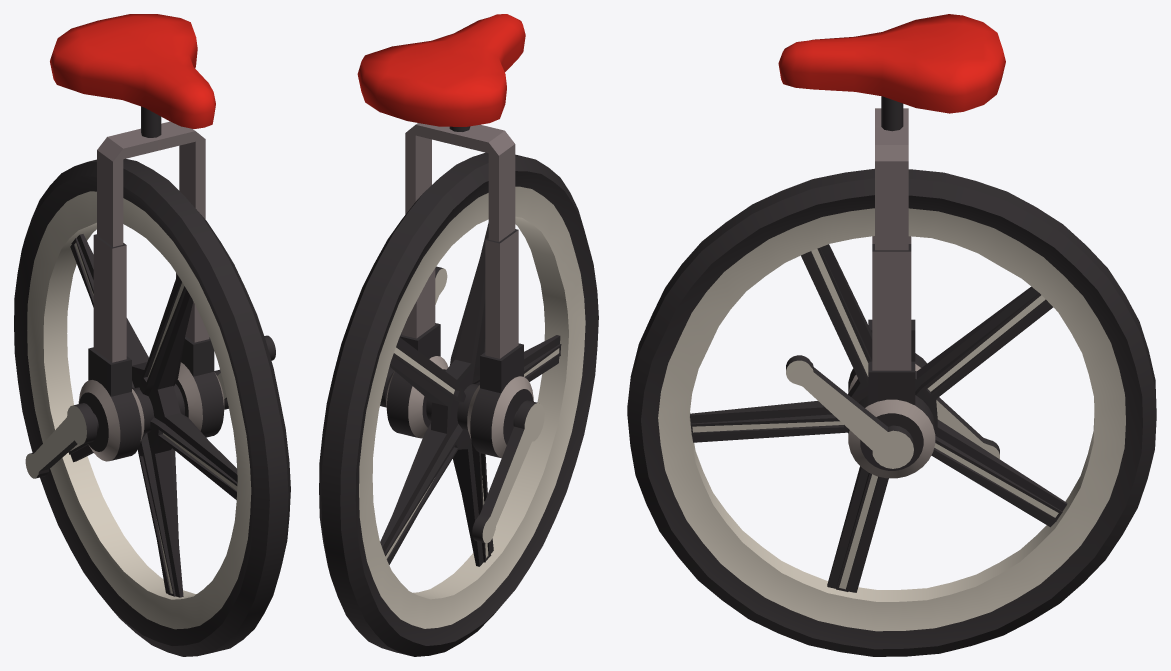
File: Clown Cycle.fbx
The picture shows the model from 3 angles, left to right: view 1: azimuth 30°, elevation 25°; view 2: azimuth 150°, elevation 25°; view 3: azimuth 270°, elevation 25°; orthographic projection. The views are drawn at different scales.
Visible parts, largest first — view 1: one wheel cycle, Cycle Handel001, Object388; view 2: one wheel cycle, Cycle Handel001, Object388; view 3: one wheel cycle, Cycle Handel001, Object388.
Boxes of the visible parts, <box> form: one wheel cycle: <box>14,158,290,656</box>; Cycle Handel001: <box>50,14,224,461</box>; Object388: <box>25,335,275,478</box>; one wheel cycle: <box>319,152,598,656</box>; Cycle Handel001: <box>357,14,533,458</box>; Object388: <box>380,266,544,543</box>; one wheel cycle: <box>627,168,1156,656</box>; Cycle Handel001: <box>778,14,1005,478</box>; Object388: <box>786,355,999,468</box>.
Size of the model in its own units: 114 by 434 by 340.
